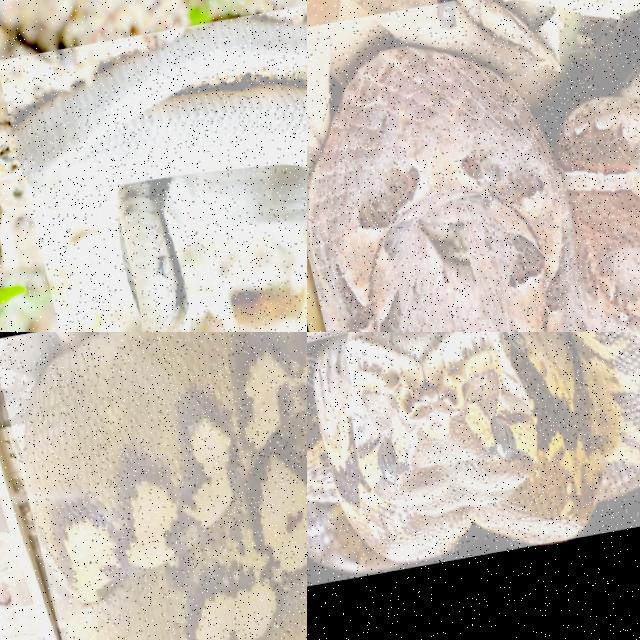Calloselasma rhodostoma: (308, 47, 639, 331)
Malayopython reticulatus: (24, 332, 306, 639)
Naja siamensis: (16, 18, 306, 331)
Python bivittatus: (307, 332, 639, 570)
snake: (308, 47, 639, 331), (16, 18, 306, 331), (24, 332, 306, 639), (307, 332, 639, 570)
